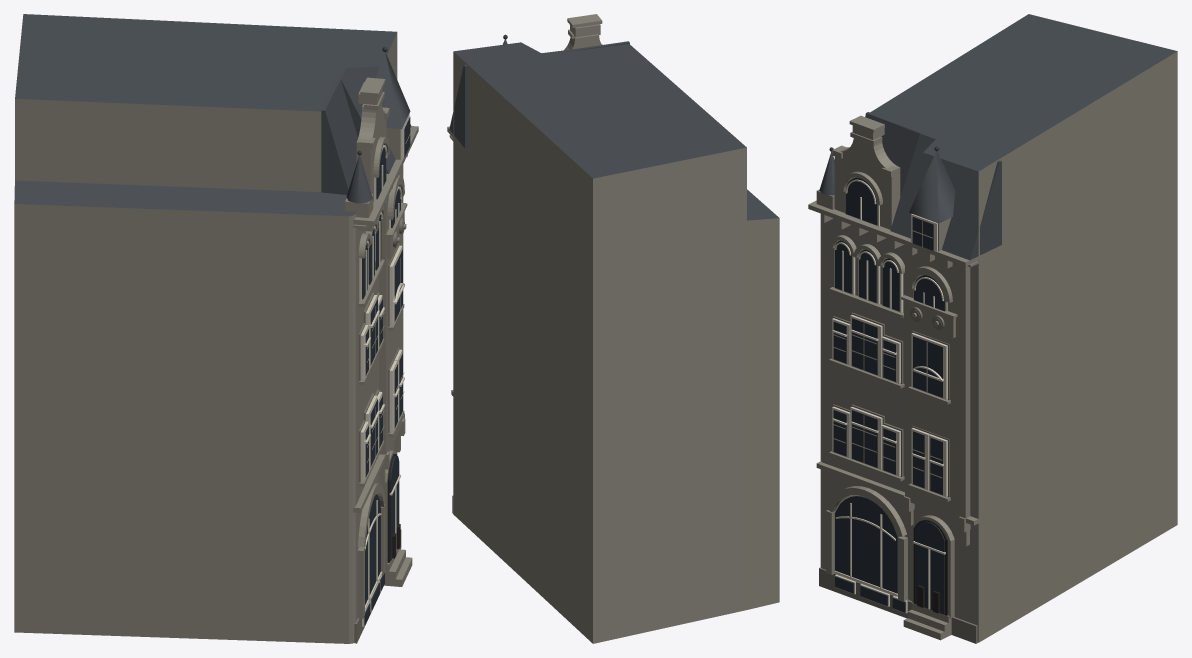
File: damrak-37.glb
3 renders of one model, left to right at view 1: azimuth 30°, elevation 25°; view 2: azimuth 150°, elevation 25°; view 3: azimuth 270°, elevation 25°, orthographic. The views are drawn at different scales.
Parts seen in each view (by area): view 1: damrak-37; view 2: damrak-37; view 3: damrak-37.
Part boxes in pixels (<box>): damrak-37: <box>14,14,418,643</box>; damrak-37: <box>447,14,779,643</box>; damrak-37: <box>808,14,1177,643</box>.
Bounding box in the file's own units: 16.69 × 21.73 × 15.1.
